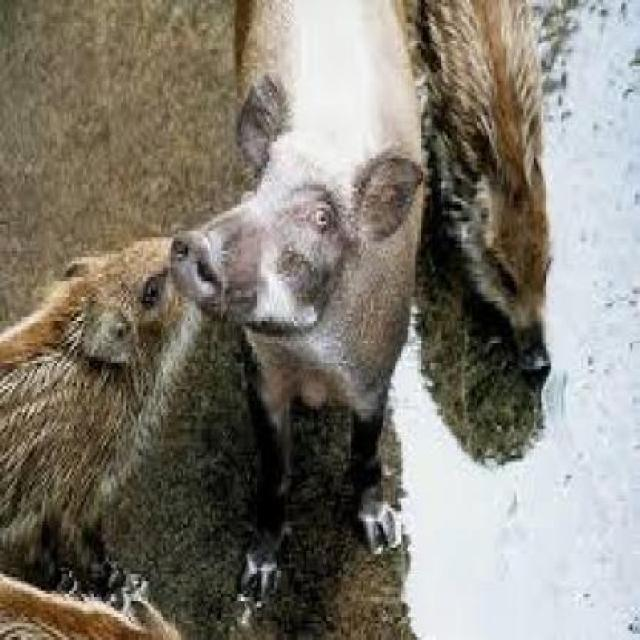wildboar: (169, 0, 423, 612), (0, 232, 214, 580), (414, 0, 557, 382), (0, 566, 198, 638)
